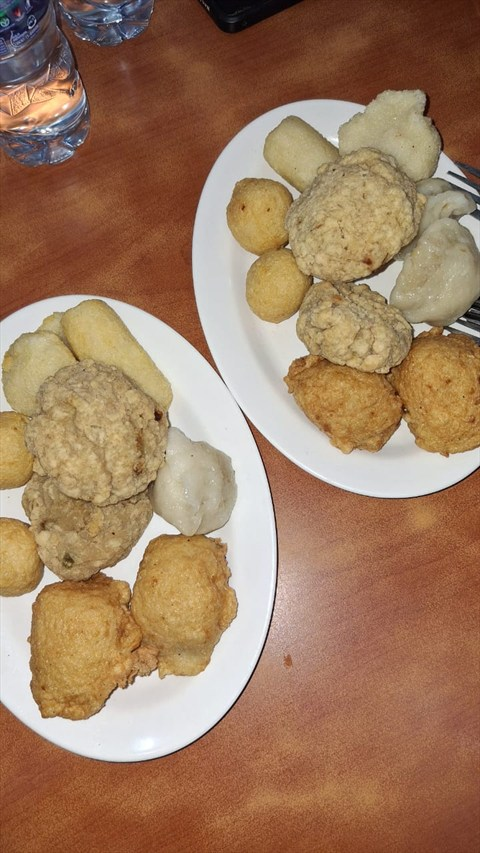Pempek: (13, 84, 434, 762)
